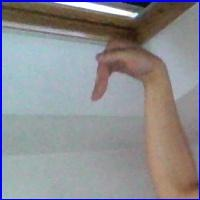del: (87, 37, 164, 107)
